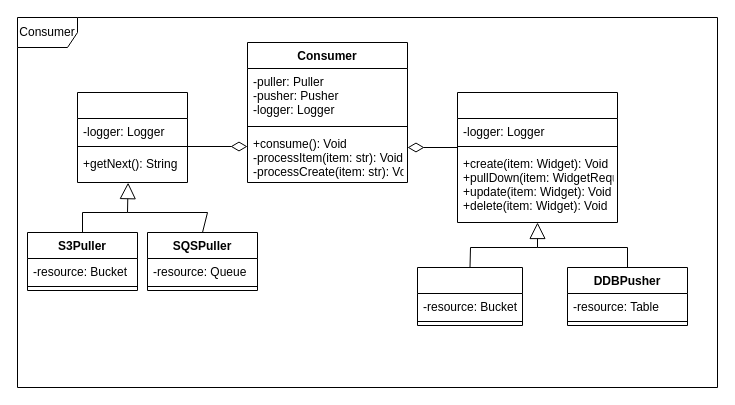
Image size: 735x405. Some labels were removed from this diagram. The shapes that lost their labels are listed below. From the top down, each one's box as (x1, y1, x2, y2) in pixels, then its label:
(76, 92, 188, 182): Puller
(456, 92, 618, 222): Pusher
(416, 266, 522, 326): S3Pusher
